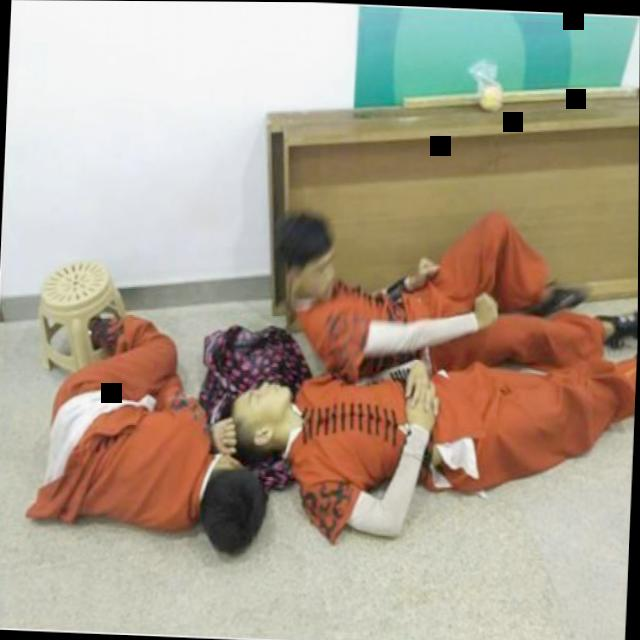Fall-Detected: (274, 184, 590, 384)
